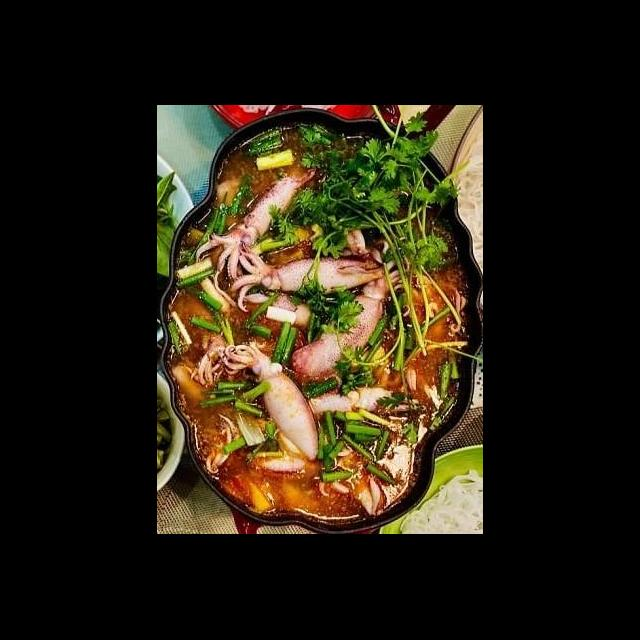muc: (288, 238, 422, 388), (192, 150, 321, 290), (218, 337, 324, 462), (225, 238, 394, 316), (293, 382, 422, 426), (242, 286, 327, 332)
